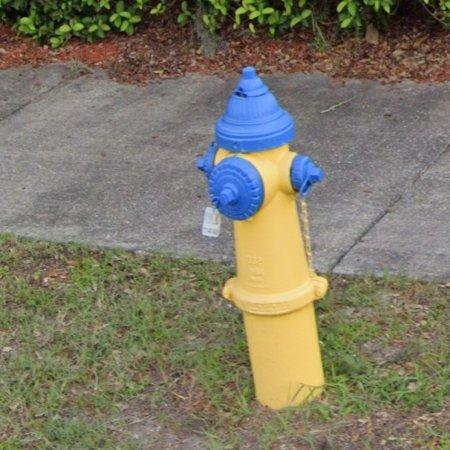a fire hydrant: (196, 67, 328, 410)
